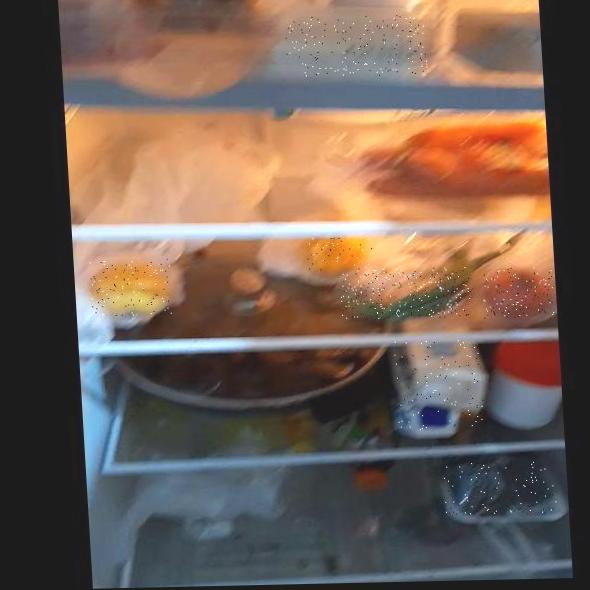broccoli: (443, 459, 559, 516)
cheese: (285, 15, 428, 78)
green chilies: (340, 267, 472, 320)
lemon: (88, 259, 173, 316), (303, 237, 376, 273)
milk: (393, 340, 487, 431)
tomato: (481, 266, 555, 319)
